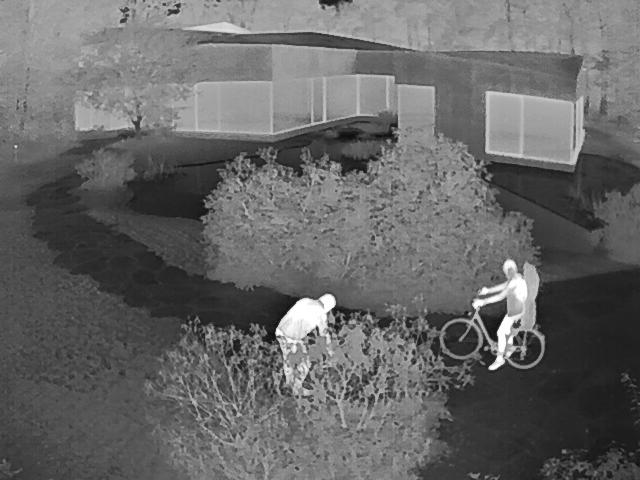person: (276, 293, 339, 398), (475, 256, 528, 368)
